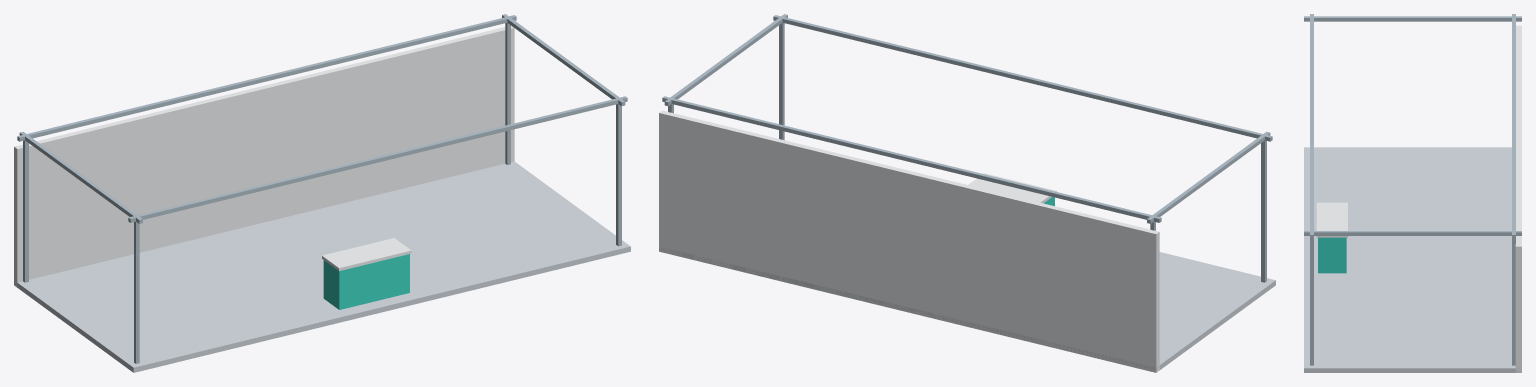
3 views of the same model, side by side, from view 1: azimuth 30°, elevation 25°; view 2: azimuth 150°, elevation 25°; view 3: azimuth 270°, elevation 25° (orthographic). The views are drawn at different scales.
Parts seen in each view (by area): view 1: Exhibition Booth Concept; view 2: Exhibition Booth Concept; view 3: Exhibition Booth Concept.
Part boxes in pixels (x1,y1,x2,y2): Exhibition Booth Concept: (14,14,630,372); Exhibition Booth Concept: (659,14,1275,372); Exhibition Booth Concept: (1304,14,1521,372).
Bounding box in the file's own units: 12 × 3.49 × 5.
